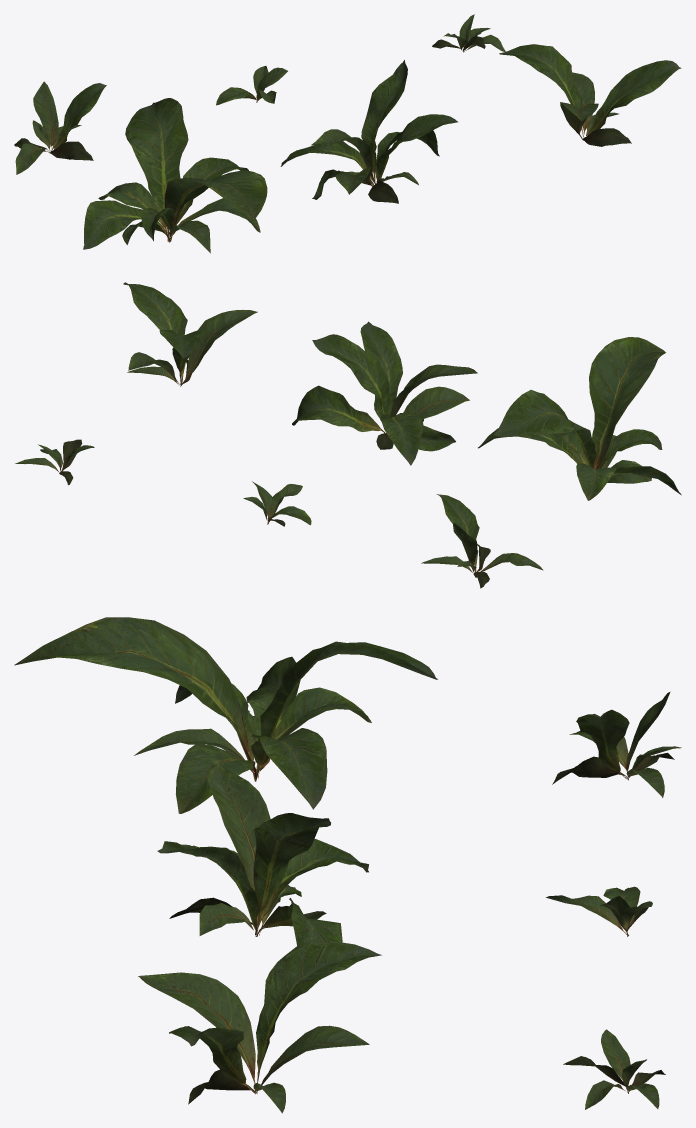
The model's file is anthurium_botany_01.glb.
The picture shows the model from 3 angles, top to bottom: view 1: azimuth 30°, elevation 25°; view 2: azimuth 150°, elevation 25°; view 3: azimuth 270°, elevation 25°; orthographic projection. The views are drawn at different scales.
Visible parts, largest first — view 1: Prop; view 2: Prop; view 3: Prop.
Part boxes in pixels (x1=…): Prop: x1=14, y1=14, x2=681, y2=253; Prop: x1=15, y1=282, x2=681, y2=588; Prop: x1=14, y1=617, x2=681, y2=1113.
Size of the model in its own units: 2.8 by 0.5027 by 1.8.
Materials: 1 (1 with a texture image).
